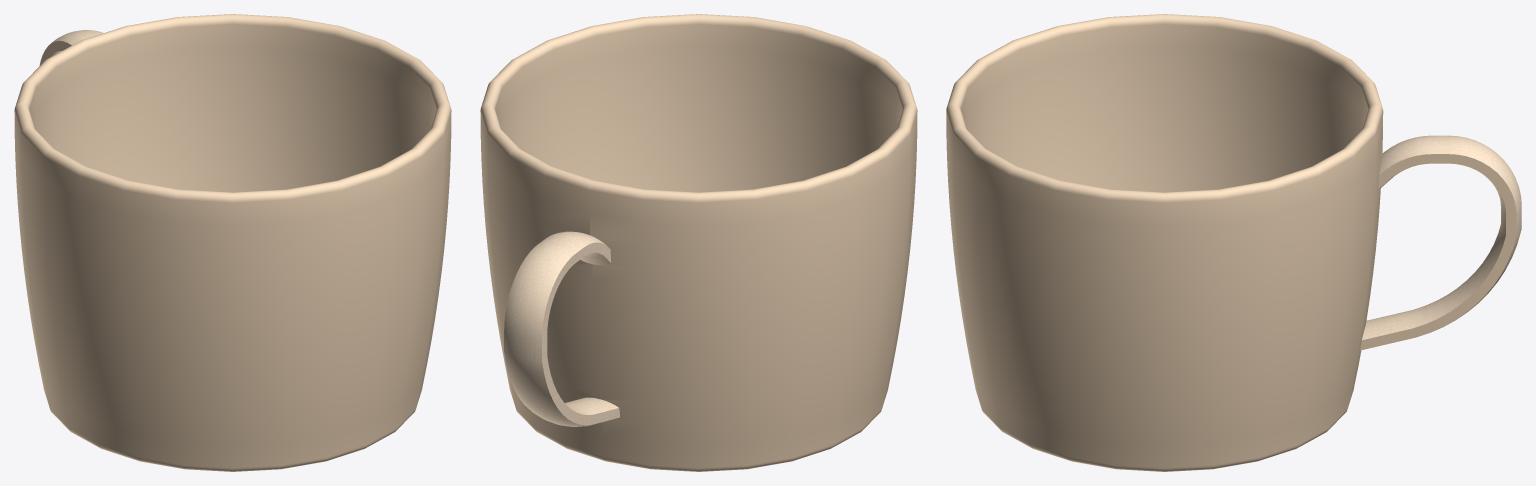
The picture shows the model from 3 angles, left to right: view 1: azimuth 30°, elevation 25°; view 2: azimuth 150°, elevation 25°; view 3: azimuth 270°, elevation 25°; orthographic projection.
Visible parts, largest first — view 1: mesh1_mesh1-geometry, mesh3_mesh3-geometry; view 2: mesh1_mesh1-geometry, mesh3_mesh3-geometry; view 3: mesh1_mesh1-geometry, mesh3_mesh3-geometry.
Part boxes in pixels (x1,y1,x2,y2): mesh1_mesh1-geometry: (14,14,451,471); mesh3_mesh3-geometry: (39,30,103,65); mesh1_mesh1-geometry: (480,14,917,471); mesh3_mesh3-geometry: (504,231,619,426); mesh1_mesh1-geometry: (946,14,1383,471); mesh3_mesh3-geometry: (1360,135,1521,350).
Bounding box in the file's own units: 0.5528 × 0.4054 × 0.7281.
